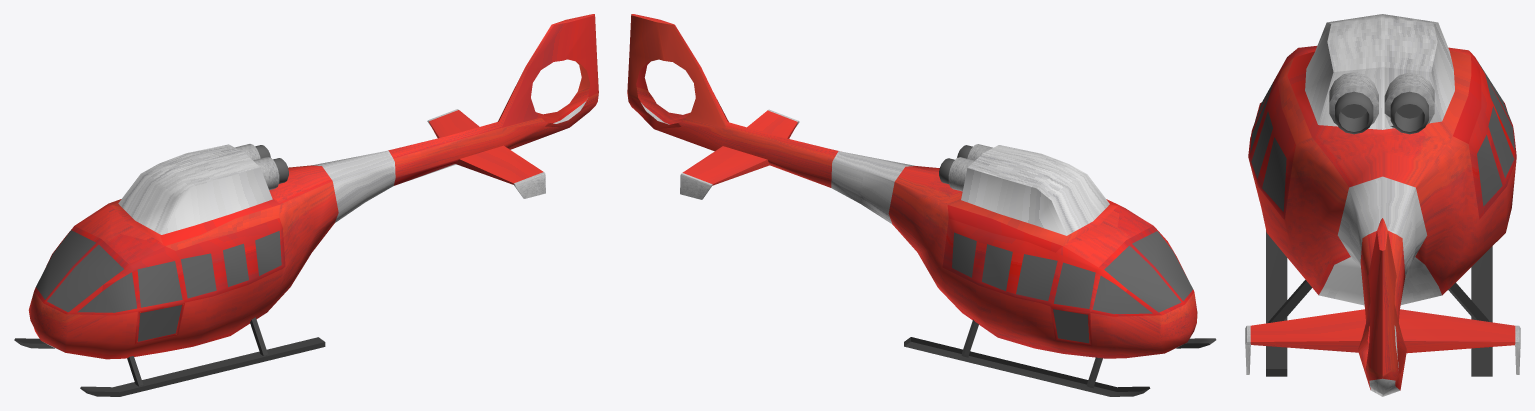
File: WyvernBody.glb
The picture shows the model from 3 angles, left to right: view 1: azimuth 30°, elevation 25°; view 2: azimuth 150°, elevation 25°; view 3: azimuth 270°, elevation 25°; orthographic projection. The views are drawn at different scales.
Visible parts, largest first — view 1: Copter_Palette_0, Legs_Palette_0; view 2: Copter_Palette_0, Legs_Palette_0; view 3: Copter_Palette_0, Legs_Palette_0.
Part boxes in pixels (box(x1,y1,x2,y2)): Copter_Palette_0: box(28, 14, 598, 359); Legs_Palette_0: box(14, 317, 325, 396); Copter_Palette_0: box(627, 14, 1197, 358); Legs_Palette_0: box(904, 319, 1216, 396); Copter_Palette_0: box(1245, 14, 1520, 396); Legs_Palette_0: box(1266, 230, 1492, 376).
Bounding box in the file's own units: 20.37 × 8 × 5.56.
Materials: 1 (1 with a texture image).
